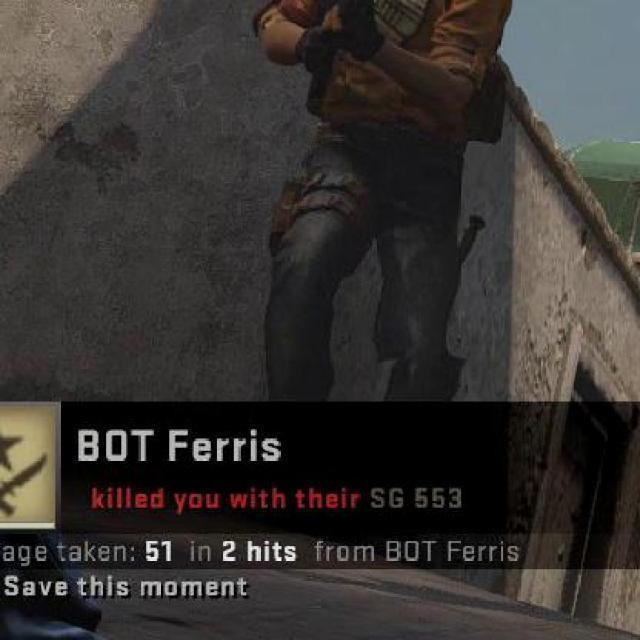T-Body: (237, 0, 516, 537)
